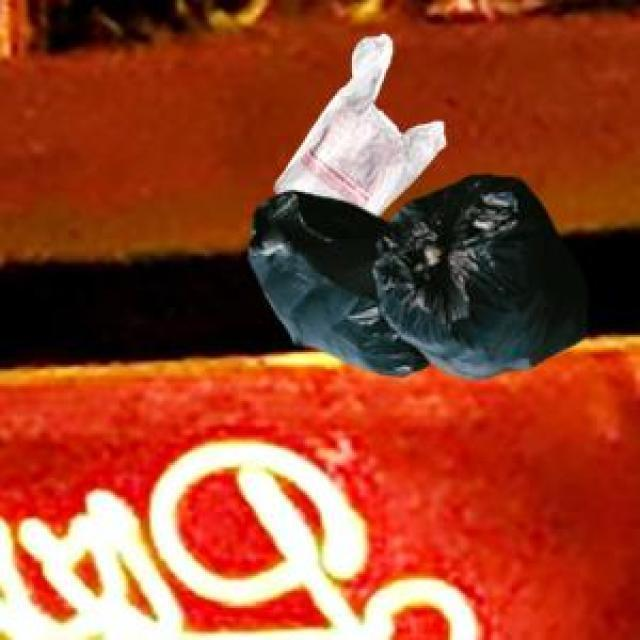miscellaneous trash: (245, 171, 585, 376)
